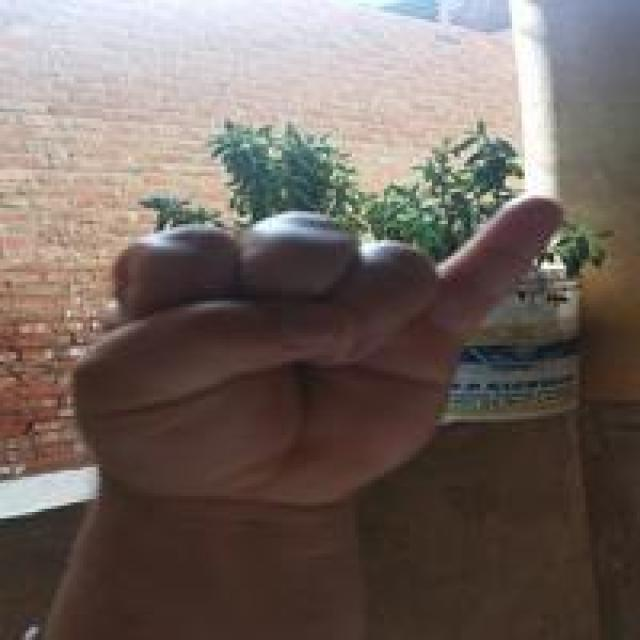I: (70, 178, 573, 520)
